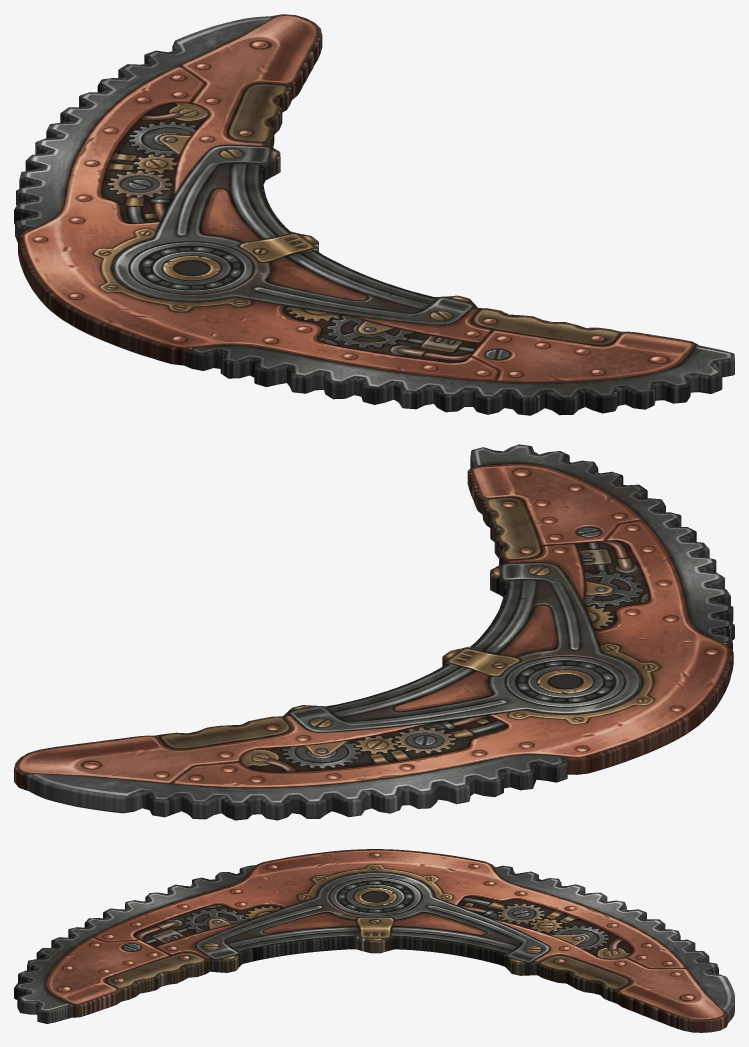
File: Boomerang_18.fbx
The picture shows the model from 3 angles, top to bottom: view 1: azimuth 30°, elevation 25°; view 2: azimuth 150°, elevation 25°; view 3: azimuth 270°, elevation 25°; orthographic projection. The views are drawn at different scales.
Visible parts, largest first — view 1: Boomerang_18; view 2: Boomerang_18; view 3: Boomerang_18.
Boxes of the visible parts, left/top/right/bottom form: Boomerang_18: left=14, top=14, right=734, bottom=415; Boomerang_18: left=14, top=444, right=734, bottom=820; Boomerang_18: left=14, top=849, right=734, bottom=1032.
Size of the model in its own units: 119 by 4 by 210.
1 material, 1 textured.
